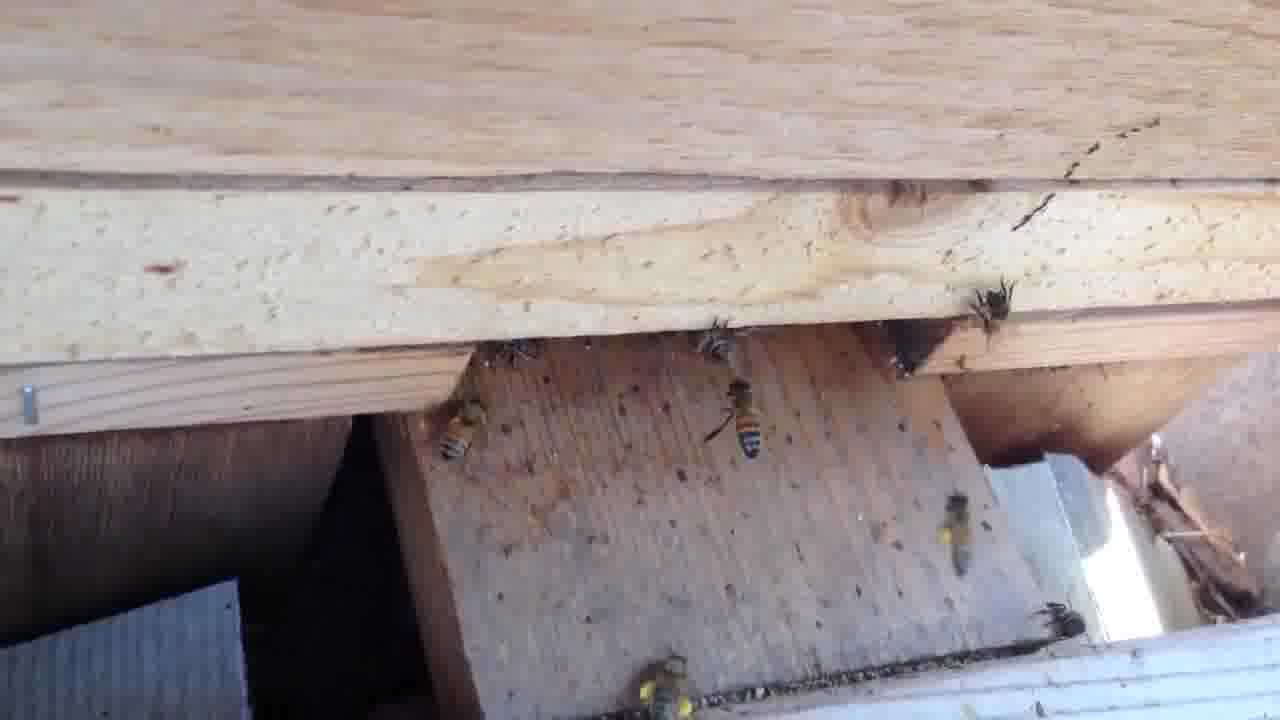pollen: (627, 644, 709, 719), (931, 480, 982, 570)
